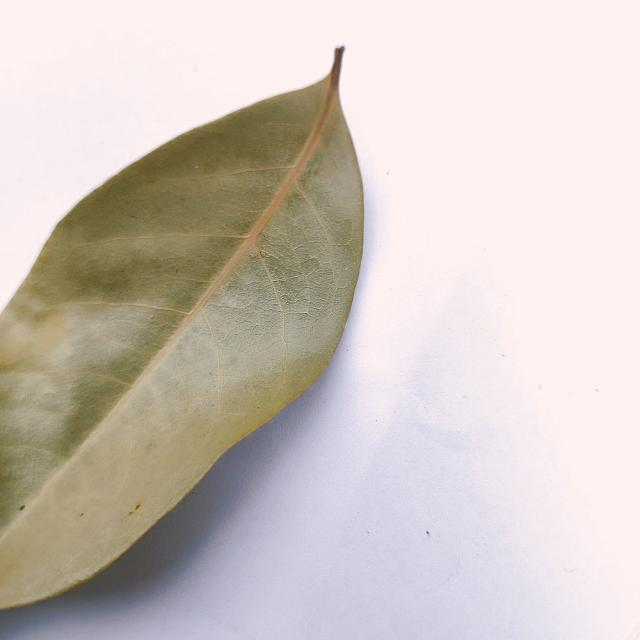Dry_Leaf-Lychee: (0, 46, 366, 614)
